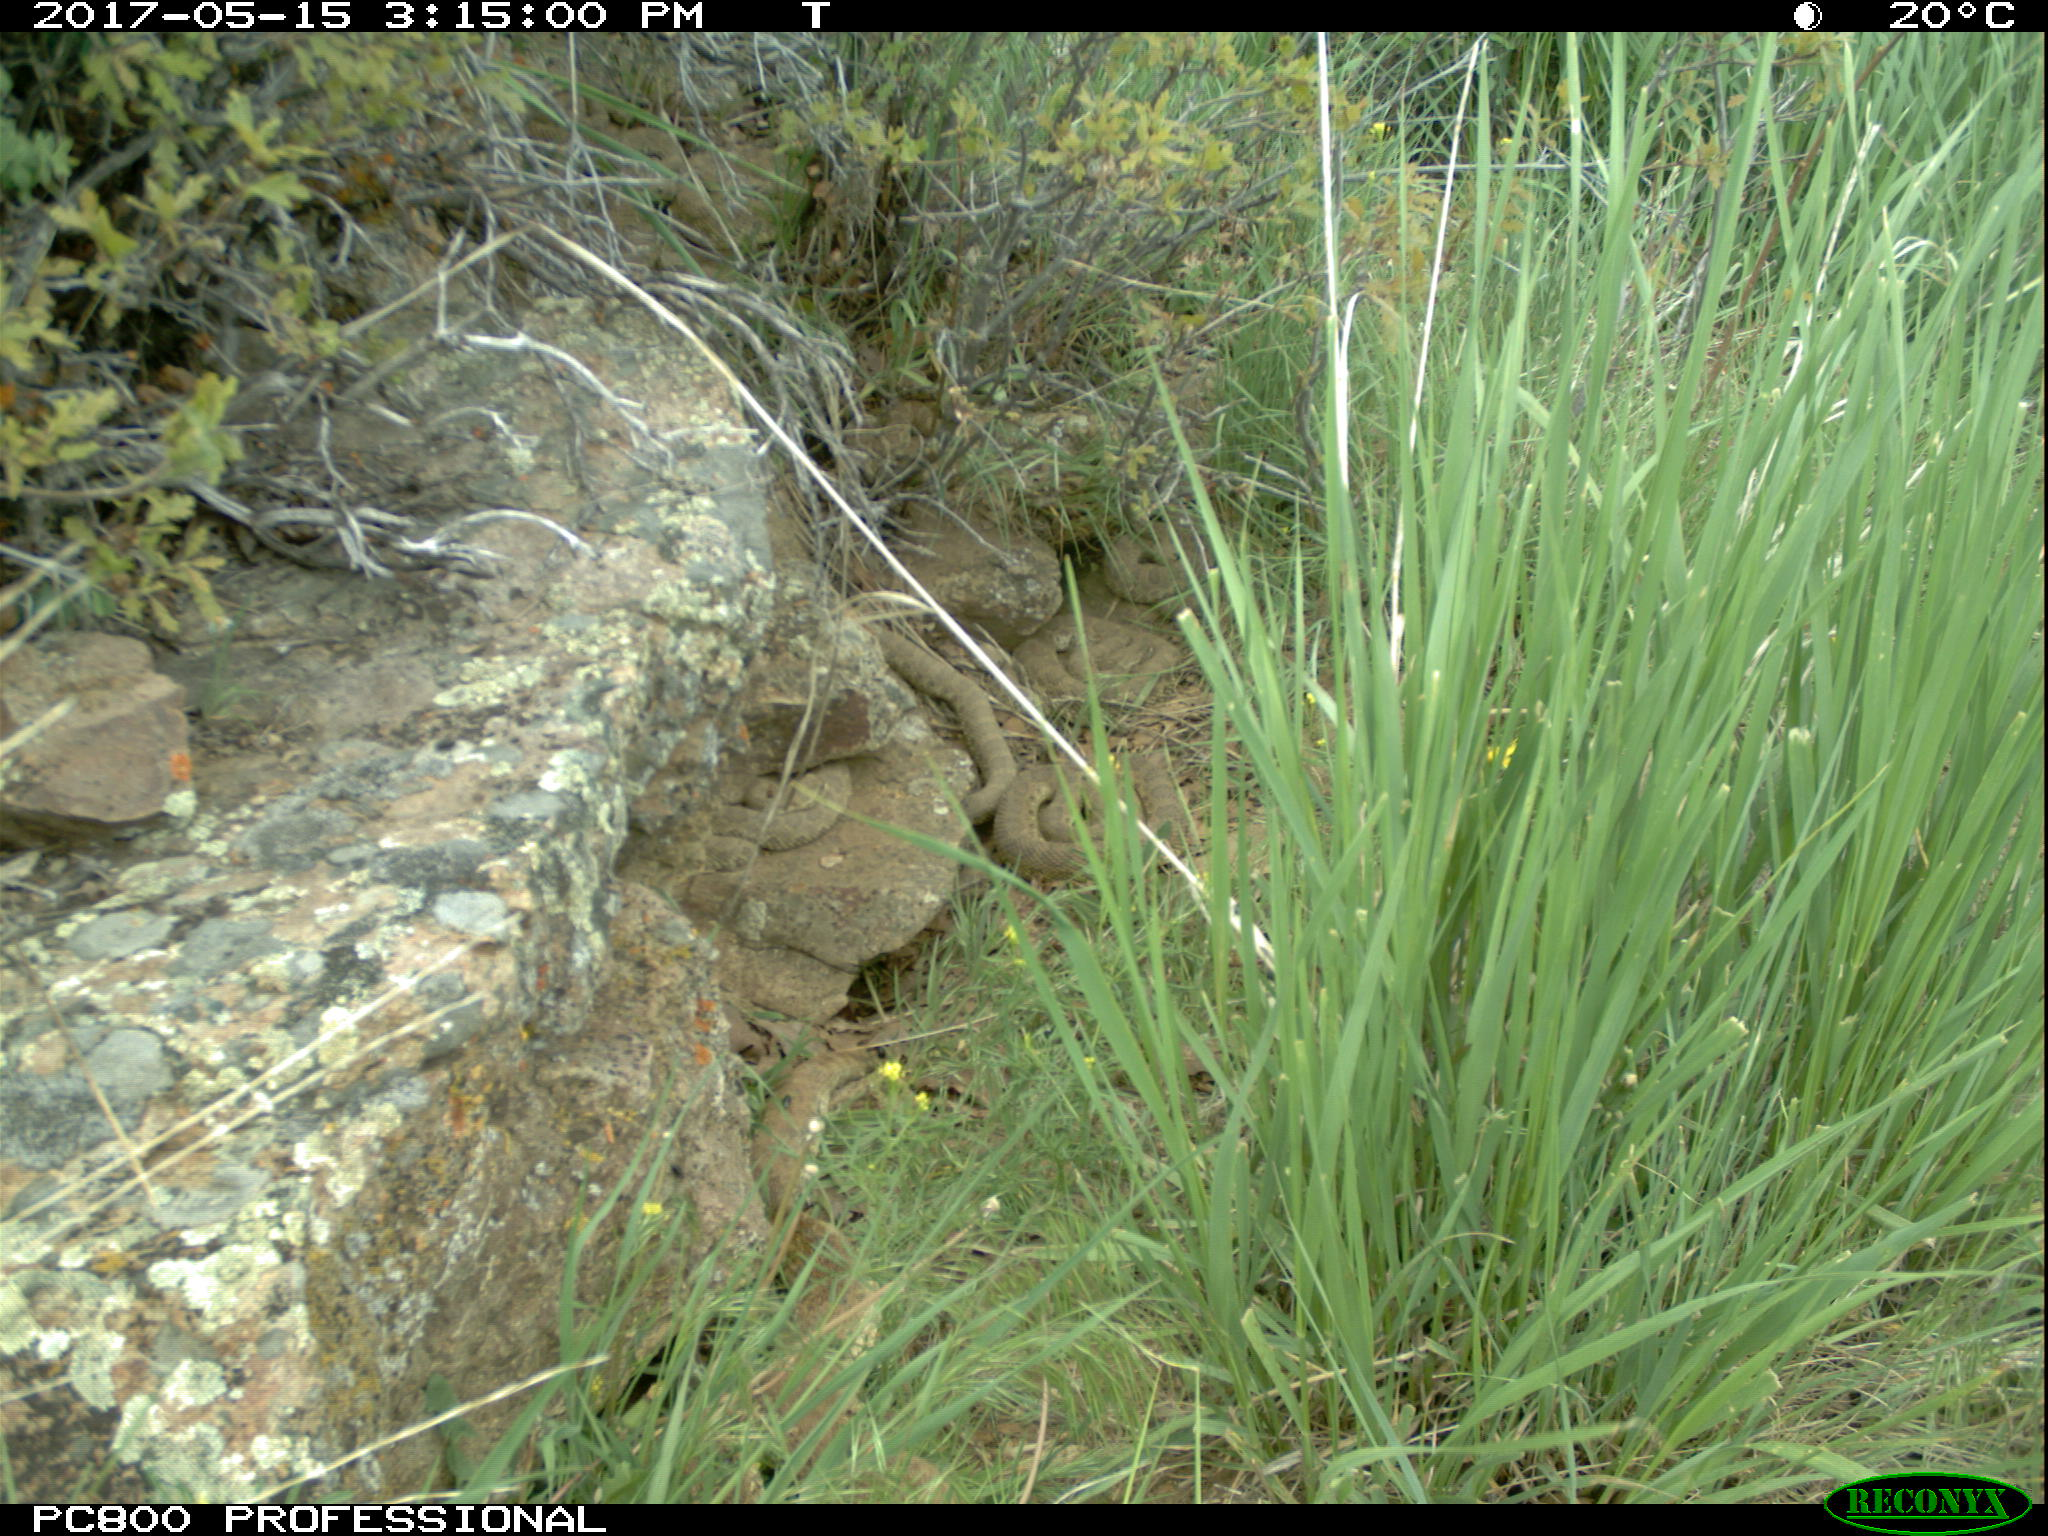snake: (753, 1046, 880, 1488), (874, 628, 1009, 824), (995, 763, 1185, 874), (698, 765, 866, 873), (1018, 615, 1176, 708), (668, 152, 814, 252), (1095, 511, 1234, 599), (595, 126, 693, 207), (847, 402, 948, 473)
